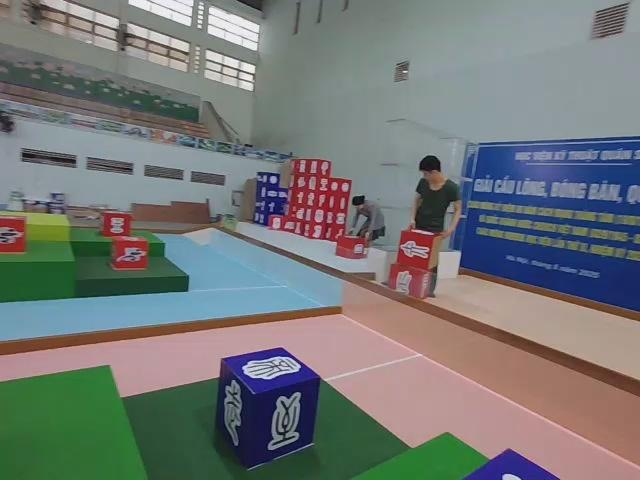R2 Fake Blue: (217, 350, 321, 474)
